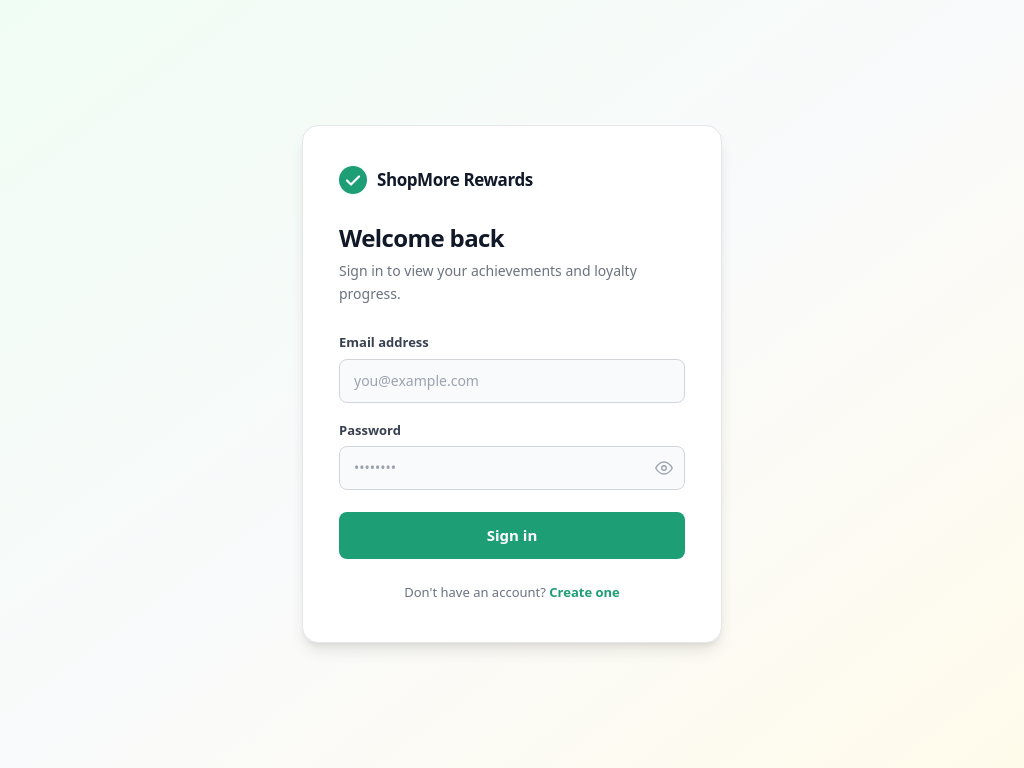
Test: LoginPage › shows an error alert on failed login
Type "bad@example.com" into the field labelled "Email address" at (512, 381), box 339,359 -> 685,403
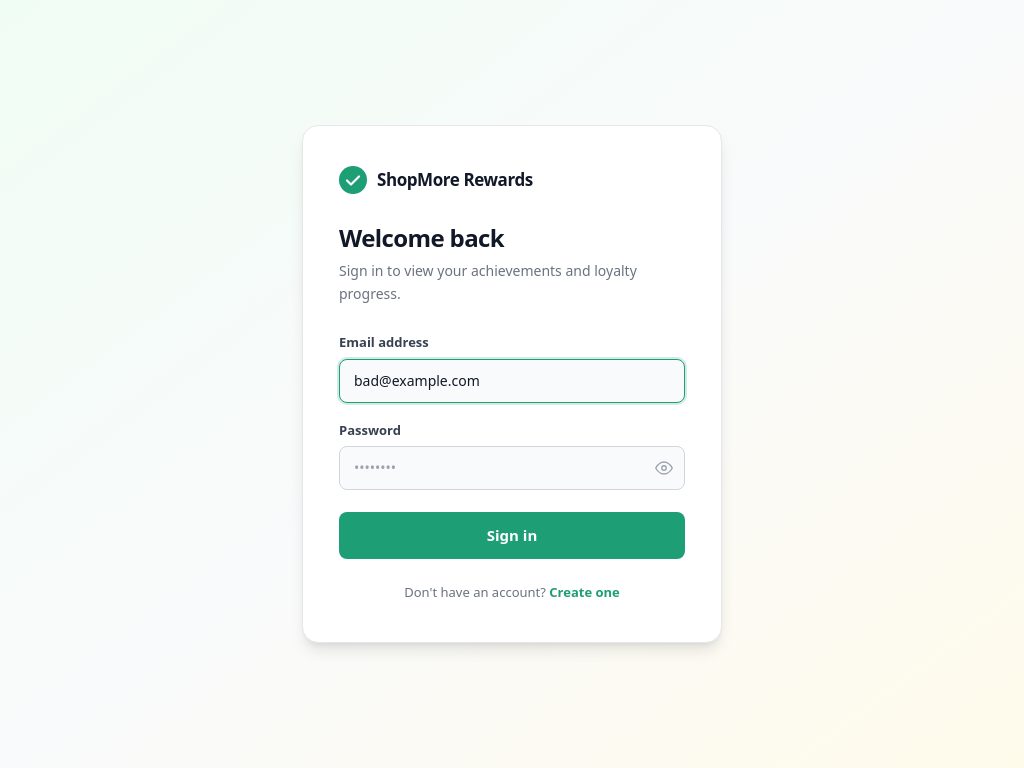
Type "wrong" into the password field labelled "Password" at (512, 468), box 339,446 -> 685,490
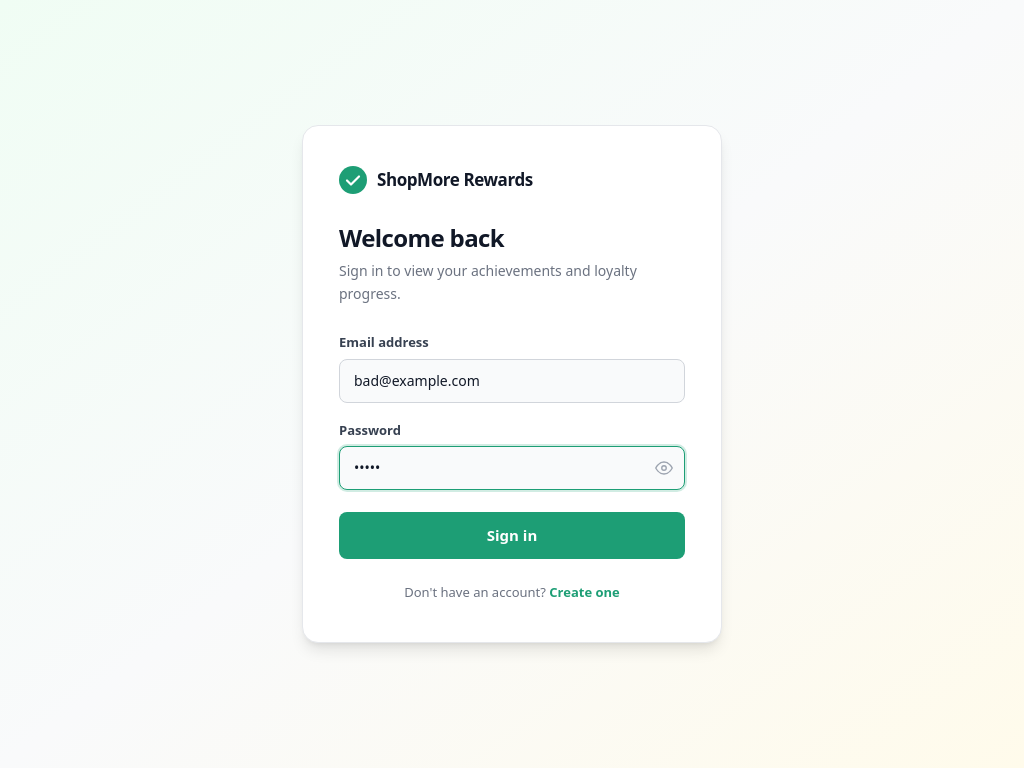
Click the button "Sign in" at (512, 536), box 339,512 -> 685,559
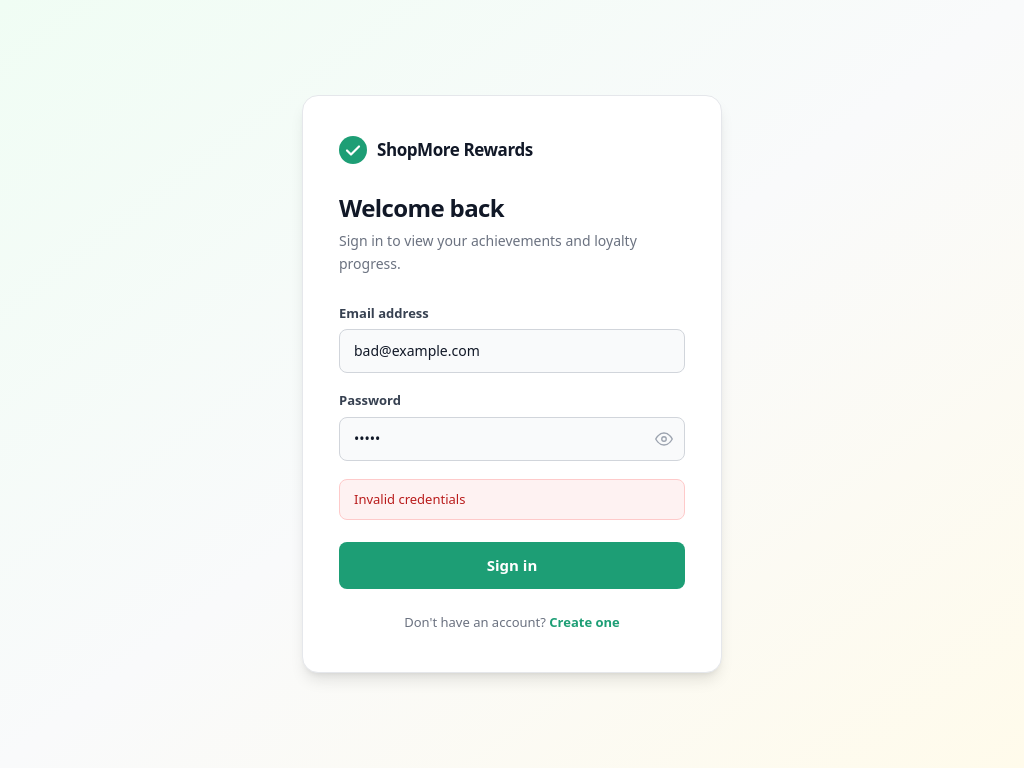
Result: the message reads "Invalid credentials" at 354,490 -> 465,508
